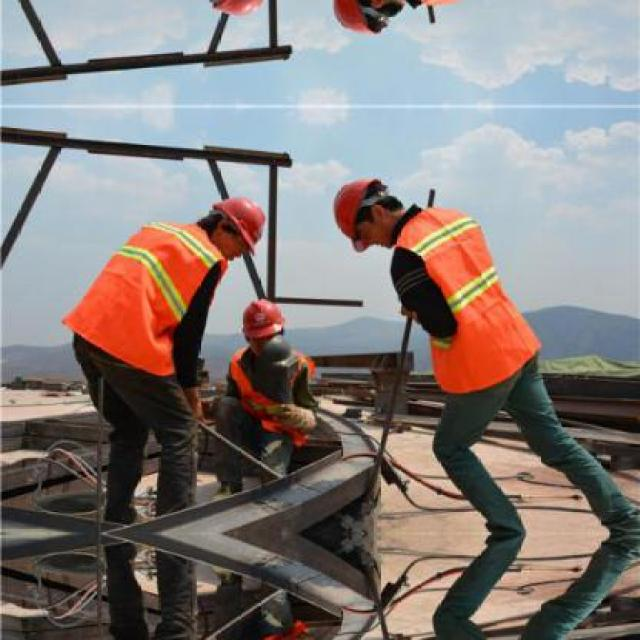helmet: (318, 170, 414, 245), (195, 190, 272, 256), (318, 0, 416, 43), (238, 295, 288, 354), (195, 0, 274, 23)
